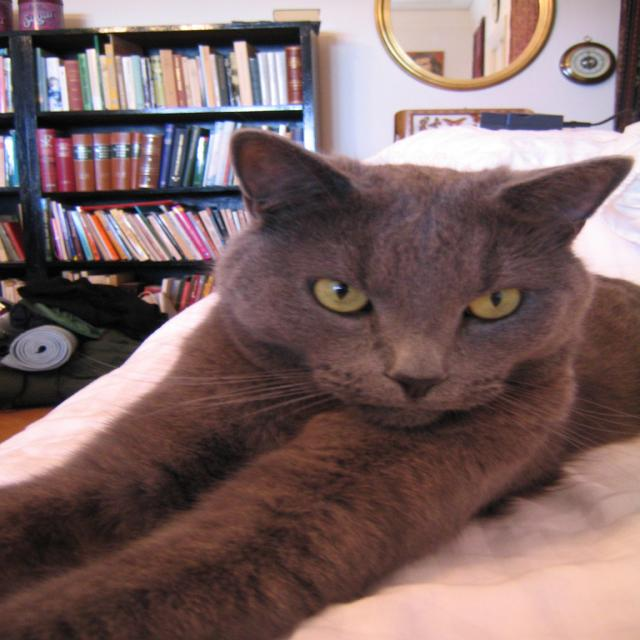cat: (1, 126, 639, 639)
